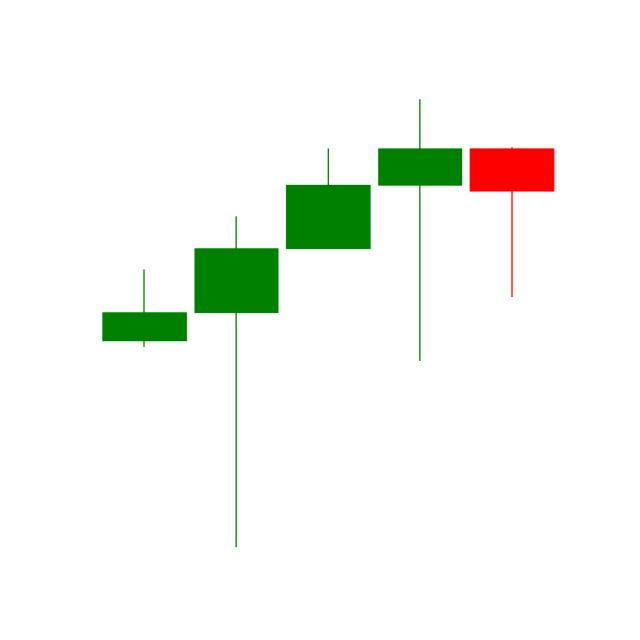Hammer: (194, 213, 282, 555), (373, 95, 467, 364)
